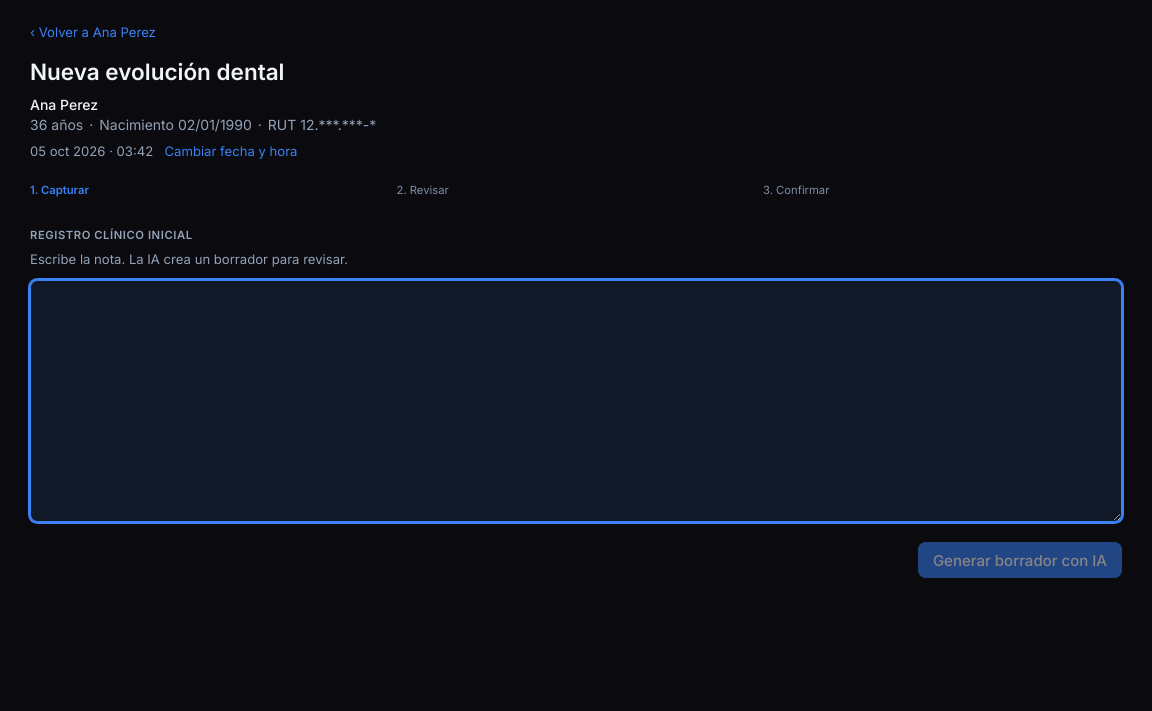
NewEvolution generation states › renders the partial state with review flags
Check: the heading "Nueva evolución dental" is shown, box [30,58,284,85]
Type "Paciente refiere sensibilidad al frío." into the text box named "Nota clínica" at coordinates (576, 401), box [30,280,1122,522]
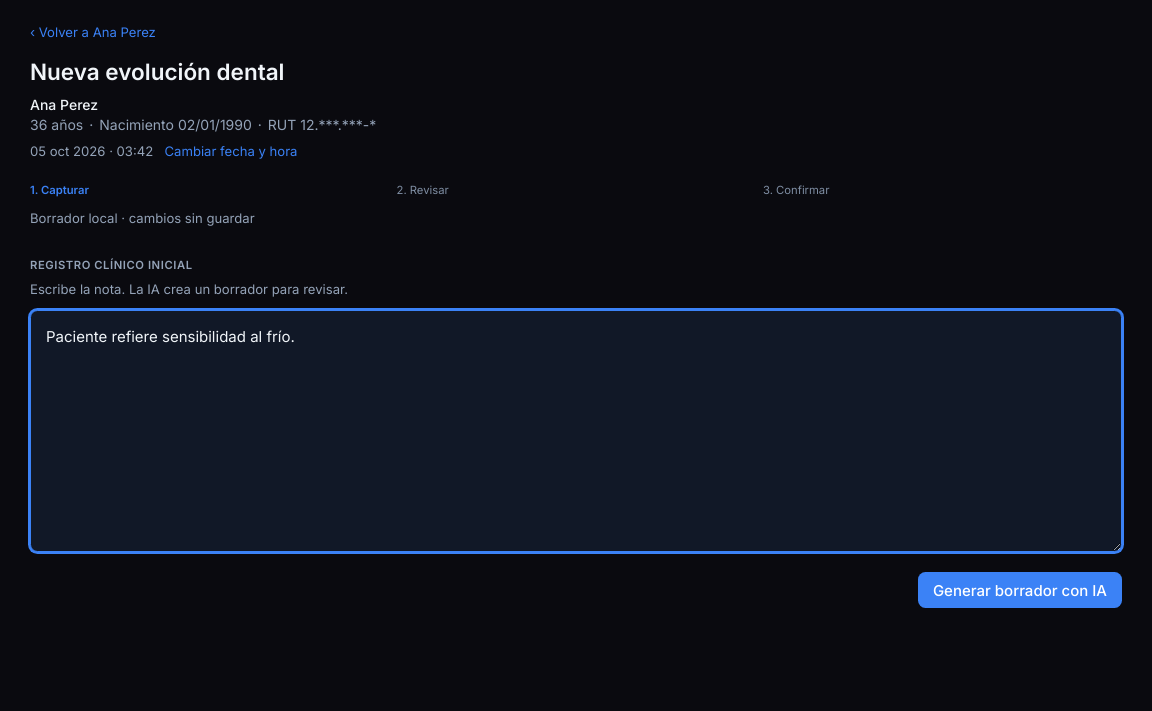
Click the button "Generar borrador con IA" at coordinates (1020, 590), box [918,572,1122,608]
(page scrolled)
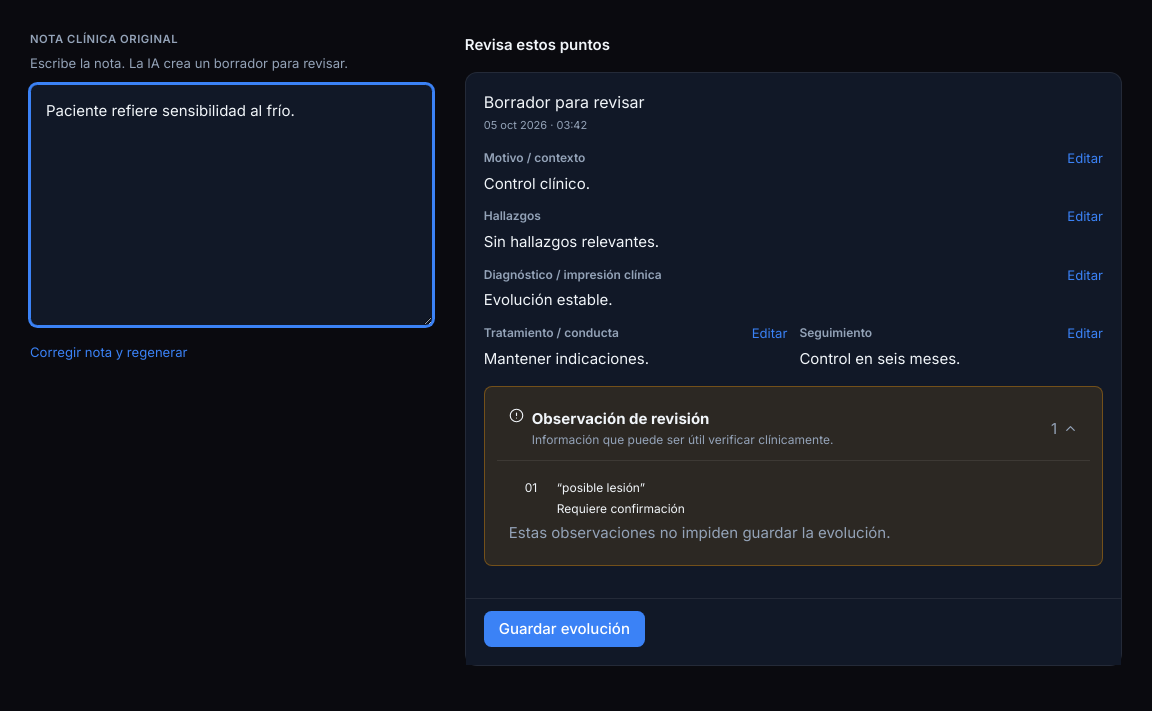
Check: the heading "Revisa estos puntos" is shown, box [465,35,610,54]
Check: the text "posible lesión" is shown, box [557,480,645,495]
